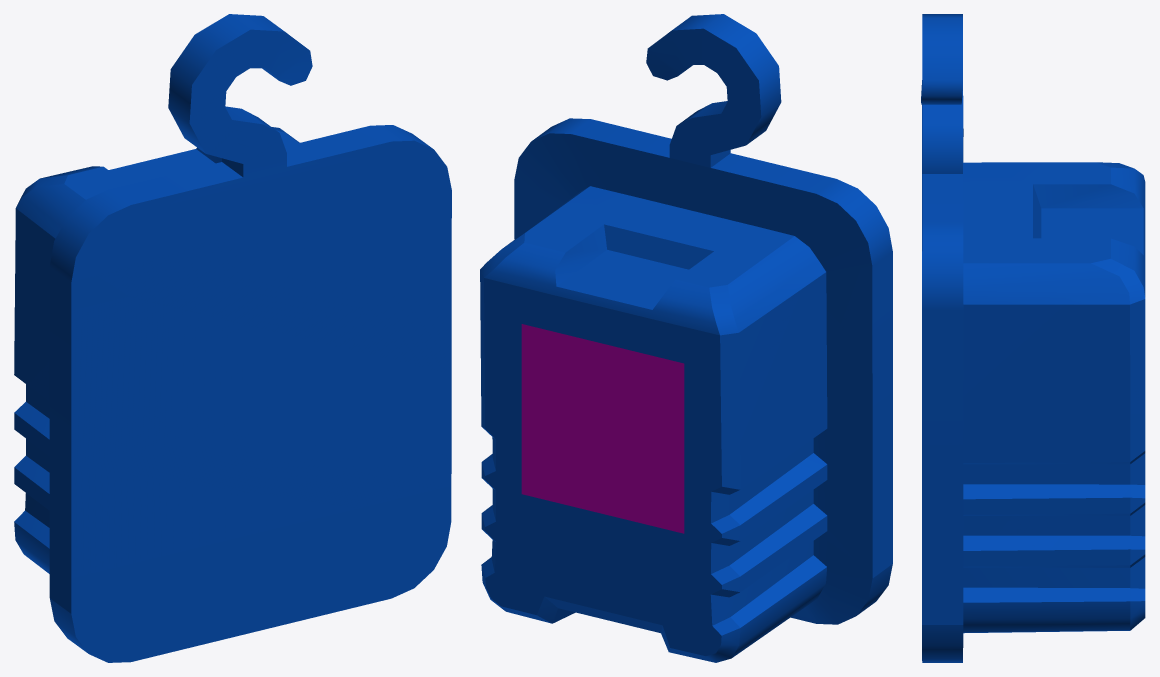
Rendered from obj_consumable_outfitpackage.fbx.
3 views of the same model, side by side, from view 1: azimuth 30°, elevation 25°; view 2: azimuth 150°, elevation 25°; view 3: azimuth 270°, elevation 25° (orthographic). The views are drawn at different scales.
Parts seen in each view (by area): view 1: obj_consumable_outfitpackage03.001; view 2: obj_consumable_outfitpackage03.001; view 3: obj_consumable_outfitpackage03.001.
Part boxes in pixels (x1,y1,x2,y2): obj_consumable_outfitpackage03.001: (14, 14, 451, 662); obj_consumable_outfitpackage03.001: (480, 14, 892, 662); obj_consumable_outfitpackage03.001: (921, 14, 1145, 662).
Size of the model in its own units: 1.84 by 2.79 by 0.9935.
